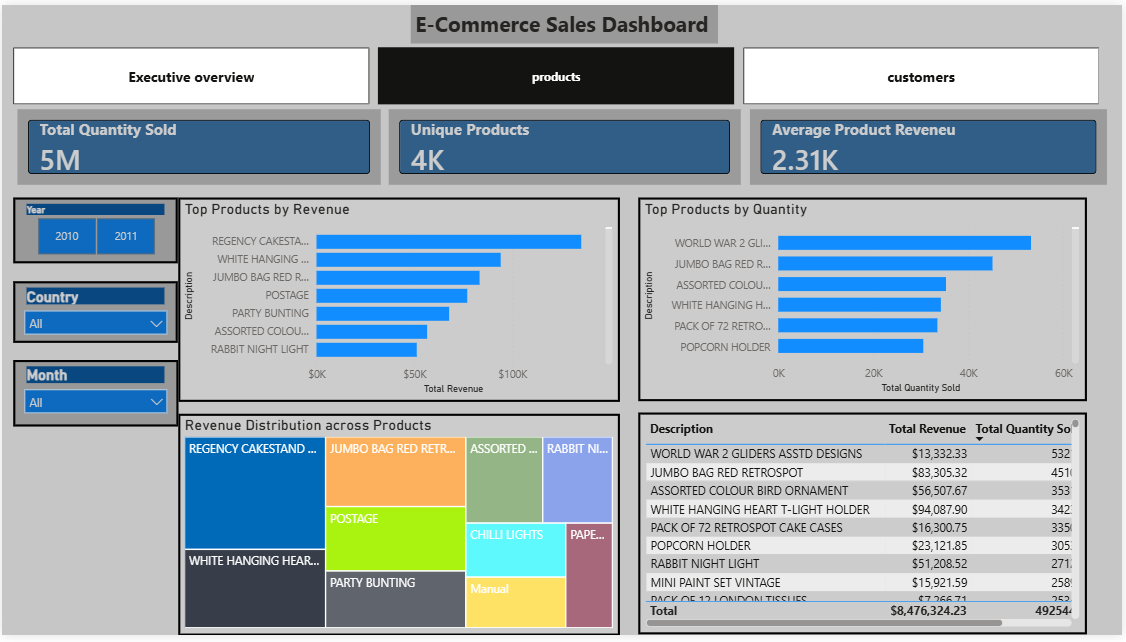

The page's visual inventory and layout, read from the dashboard file:
{"tool":"powerbi","page":{"name":"products","canvas":[1280,720],"ordinal":1},"visuals":[{"type":"cardVisual","fields":{"Data":["Sales.Total Quantity Sold"]},"box":[12.5,113.8,425,96.2],"z":0},{"type":"cardVisual","fields":{"Data":["Sales.Unique Products"]},"box":[437.5,113.8,412.5,96.2],"z":1000},{"type":"cardVisual","fields":{"Data":["Sales.Average Product Reveneu"]},"box":[850,113.8,418.8,96.2],"z":2000},{"type":"clusteredBarChart","title":"Top Products by Revenue","fields":{"Y":["Sales.Total Revenue"],"Category":["Sales.Description"]},"box":[201.7,220,505,233.3],"z":3000},{"type":"clusteredBarChart","title":"Top Products by Quantity","fields":{"Category":["Sales.Description"],"Y":["Sales.Total Quantity Sold"]},"box":[727.5,220,512.5,232.5],"z":4000},{"type":"treemap","title":"Revenue Distribution across Products","fields":{"Group":["Sales.Description"],"Values":["Sales.Total Revenue"]},"box":[201.7,466.7,505,253.3],"z":5000},{"type":"tableEx","title":"Product Performance Table","fields":{"Values":["Sales.Description","Sales.Total Revenue","Sales.Total Quantity Sold","Sales.StockCode"]},"box":[727.5,466.2,512.5,253.8],"z":6000},{"type":"pageNavigator","box":[12.5,48.8,1243.8,65],"z":7000},{"type":"textbox","box":[467.5,0,351.2,43.8],"z":8000},{"type":"slicer","fields":{"Values":["Sales.Year"]},"box":[13.3,220,188.3,75],"z":9000},{"type":"slicer","fields":{"Values":["Sales.Country"]},"box":[13.3,315,188.3,70],"z":10000},{"type":"slicer","fields":{"Values":["Sales.Month"]},"box":[12.9,405.7,188.6,75.7],"z":11000}]}

Visuals, with their boxes in screenshot pixels (x1, y1, x2, y2), scaled from the page's 1280x720 canvas onto the 1126x642 screenshot:
cardVisual - Sales.Total Quantity Sold: Rect(11, 101, 385, 187)
cardVisual - Sales.Unique Products: Rect(385, 101, 748, 187)
cardVisual - Sales.Average Product Reveneu: Rect(748, 101, 1116, 187)
"Top Products by Revenue" clusteredBarChart: Rect(177, 196, 622, 404)
"Top Products by Quantity" clusteredBarChart: Rect(640, 196, 1091, 403)
"Revenue Distribution across Products" treemap: Rect(177, 416, 622, 641)
"Product Performance Table" tableEx: Rect(640, 416, 1091, 641)
pageNavigator: Rect(11, 44, 1105, 101)
textbox: Rect(411, 0, 720, 39)
slicer - Sales.Year: Rect(12, 196, 177, 263)
slicer - Sales.Country: Rect(12, 281, 177, 343)
slicer - Sales.Month: Rect(11, 362, 177, 429)
